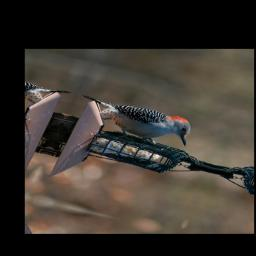Woodpecker: (67, 94, 201, 154)
